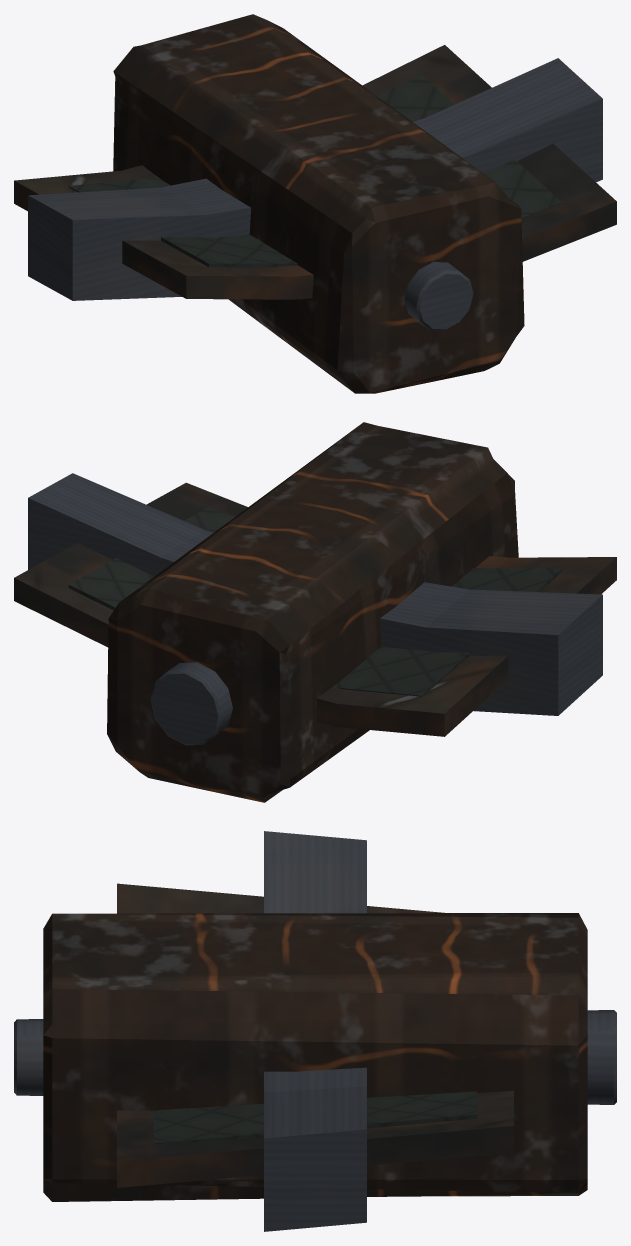
The model's file is skyshield_debris_kit.glb.
3 renders of one model, top to bottom at view 1: azimuth 30°, elevation 25°; view 2: azimuth 150°, elevation 25°; view 3: azimuth 270°, elevation 25°, orthographic. The views are drawn at different scales.
Parts seen in each view (by area): view 1: Debris_Canister_Tube, Debris_ISO_Corner_Beam, Debris_NATO_Armor_Plate, Debris_RAM_Panel, Debris_Barrel_Shard; view 2: Debris_Canister_Tube, Debris_ISO_Corner_Beam, Debris_NATO_Armor_Plate, Debris_RAM_Panel, Debris_Barrel_Shard; view 3: Debris_Canister_Tube, Debris_ISO_Corner_Beam, Debris_NATO_Armor_Plate, Debris_RAM_Panel, Debris_Barrel_Shard.
Part boxes in pixels (box(x1,y1,x2,y2)): Debris_Canister_Tube: box(113, 14, 524, 393); Debris_ISO_Corner_Beam: box(28, 58, 602, 300); Debris_NATO_Armor_Plate: box(14, 45, 616, 299); Debris_RAM_Panel: box(68, 75, 562, 267); Debris_Barrel_Shard: box(404, 262, 473, 330); Debris_Canister_Tube: box(107, 422, 518, 802); Debris_ISO_Corner_Beam: box(28, 473, 602, 715); Debris_NATO_Armor_Plate: box(14, 482, 616, 736); Debris_RAM_Panel: box(68, 507, 562, 696); Debris_Barrel_Shard: box(150, 662, 232, 745); Debris_Canister_Tube: box(43, 913, 587, 1201); Debris_ISO_Corner_Beam: box(264, 831, 366, 1231); Debris_NATO_Armor_Plate: box(117, 883, 513, 1187); Debris_RAM_Panel: box(153, 1091, 477, 1144); Debris_Barrel_Shard: box(14, 1010, 616, 1104).
Size of the model in its own units: 0.96 by 0.3307 by 0.82.
Materials: 4 (4 with a texture image).
